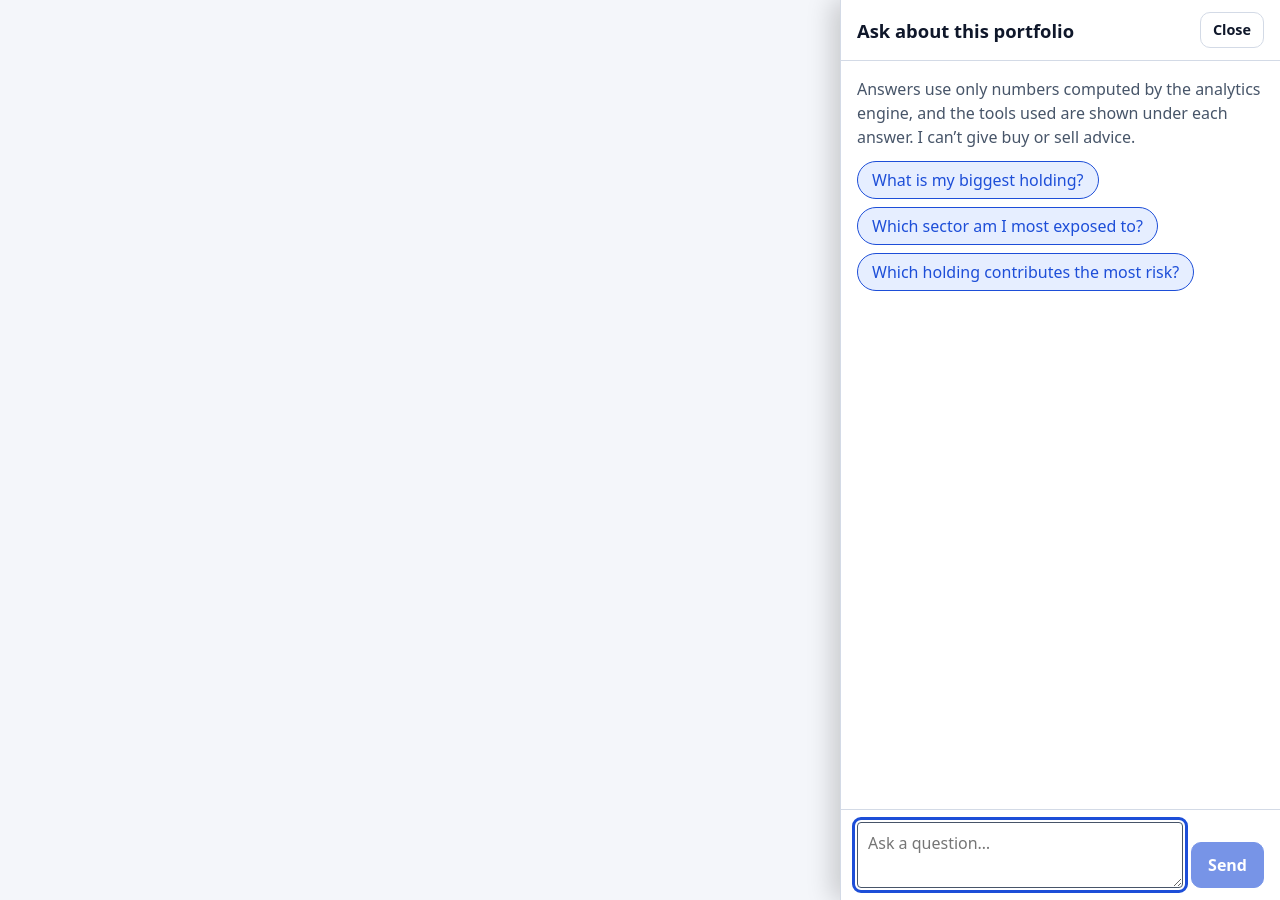
it: chat drawer › sends the analysis, history and original request, and shows the tools used
In the text box named "Your question": point(1020, 855) [857,822,1183,888], type "What is my biggest holding?"
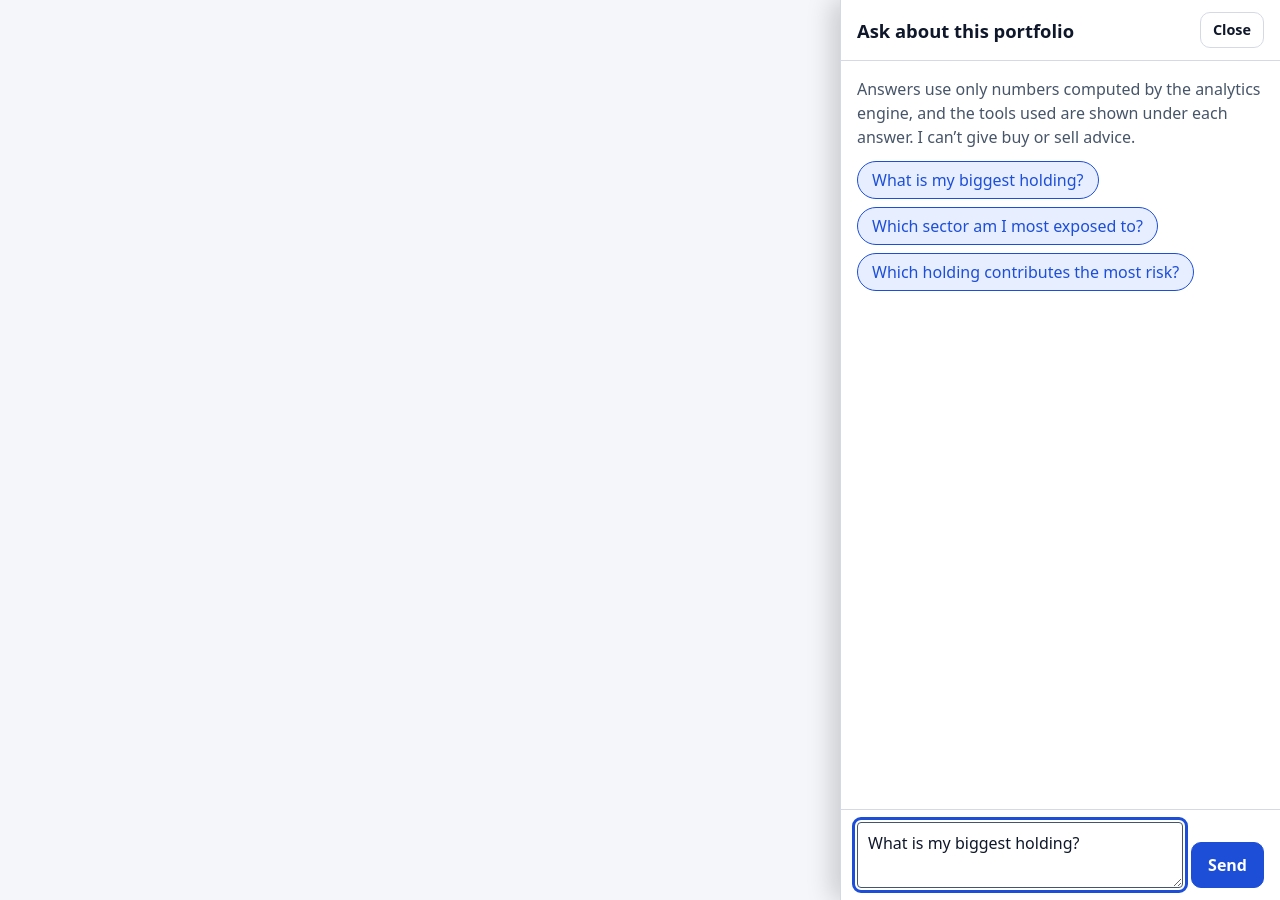
Click the button "Send": point(1228, 865) [1191,842,1264,888]
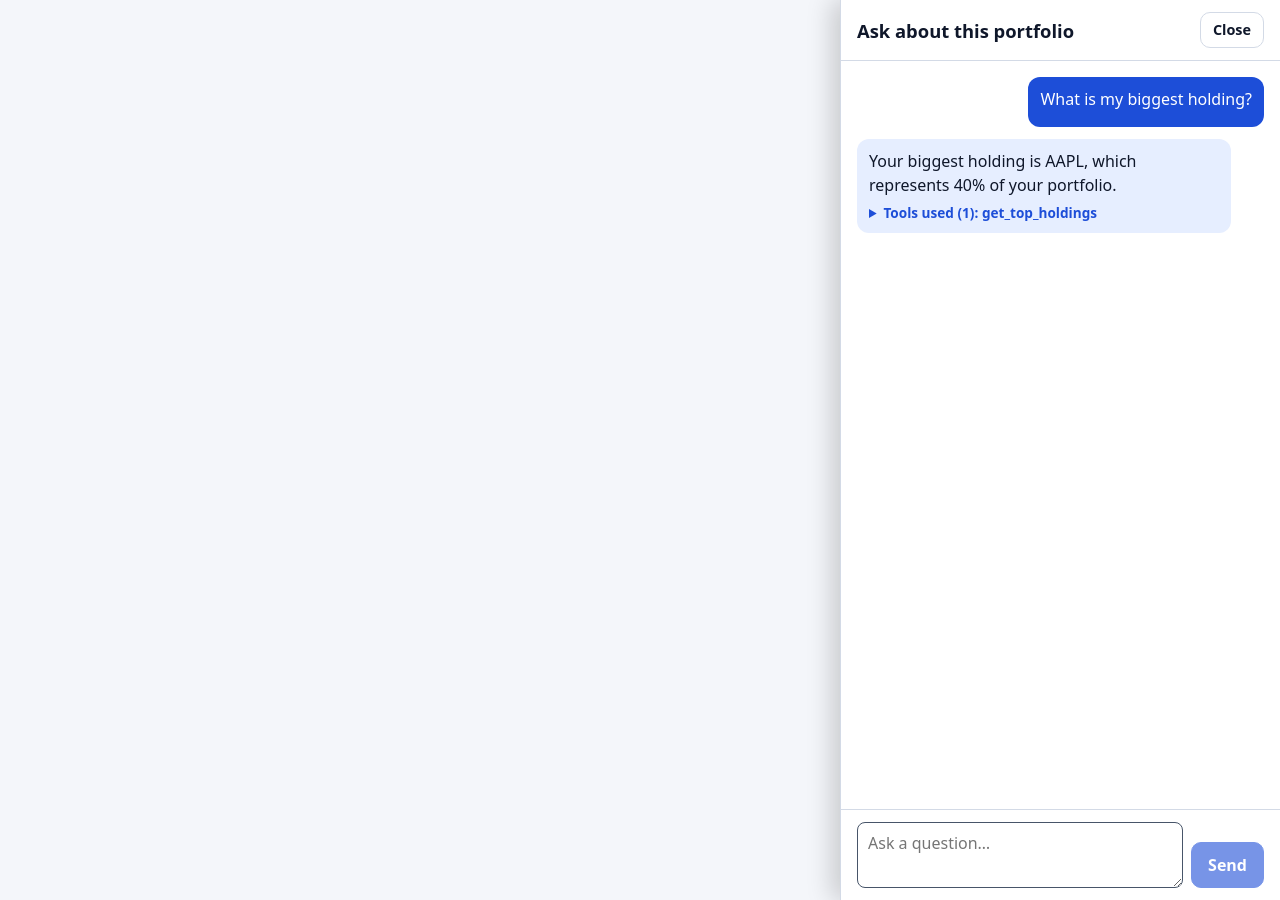
Now the text "biggest holding is AAPL" is shown, box [869,150,1141,196]
Click the heading "Tools used (1): get_top_holdings": point(990, 212) [883,203,1097,222]
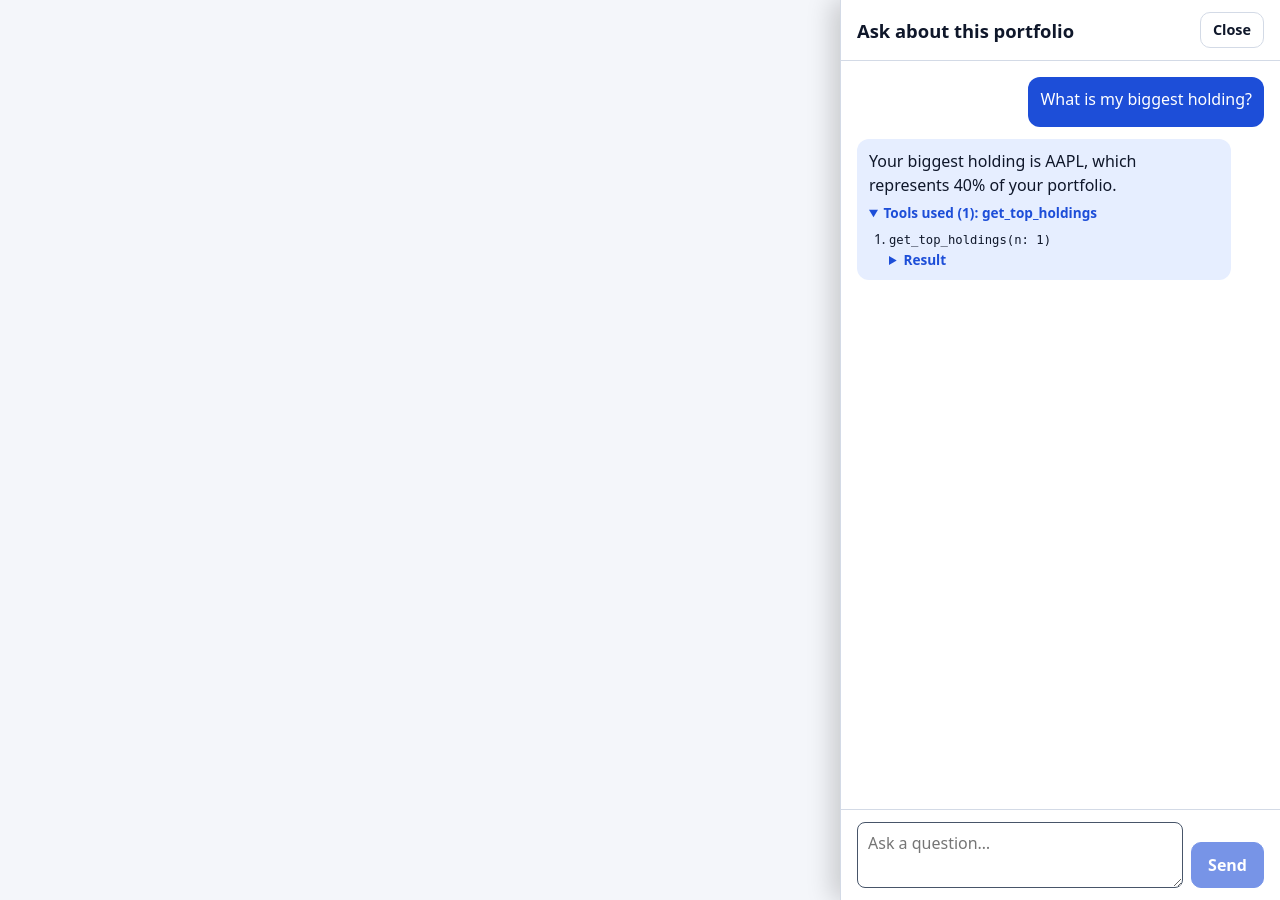
Now the text "get_top_holdings(n: 1)" is shown, box [889,233,1051,247]
Click the heading "Result": point(925, 259) [903,250,946,269]
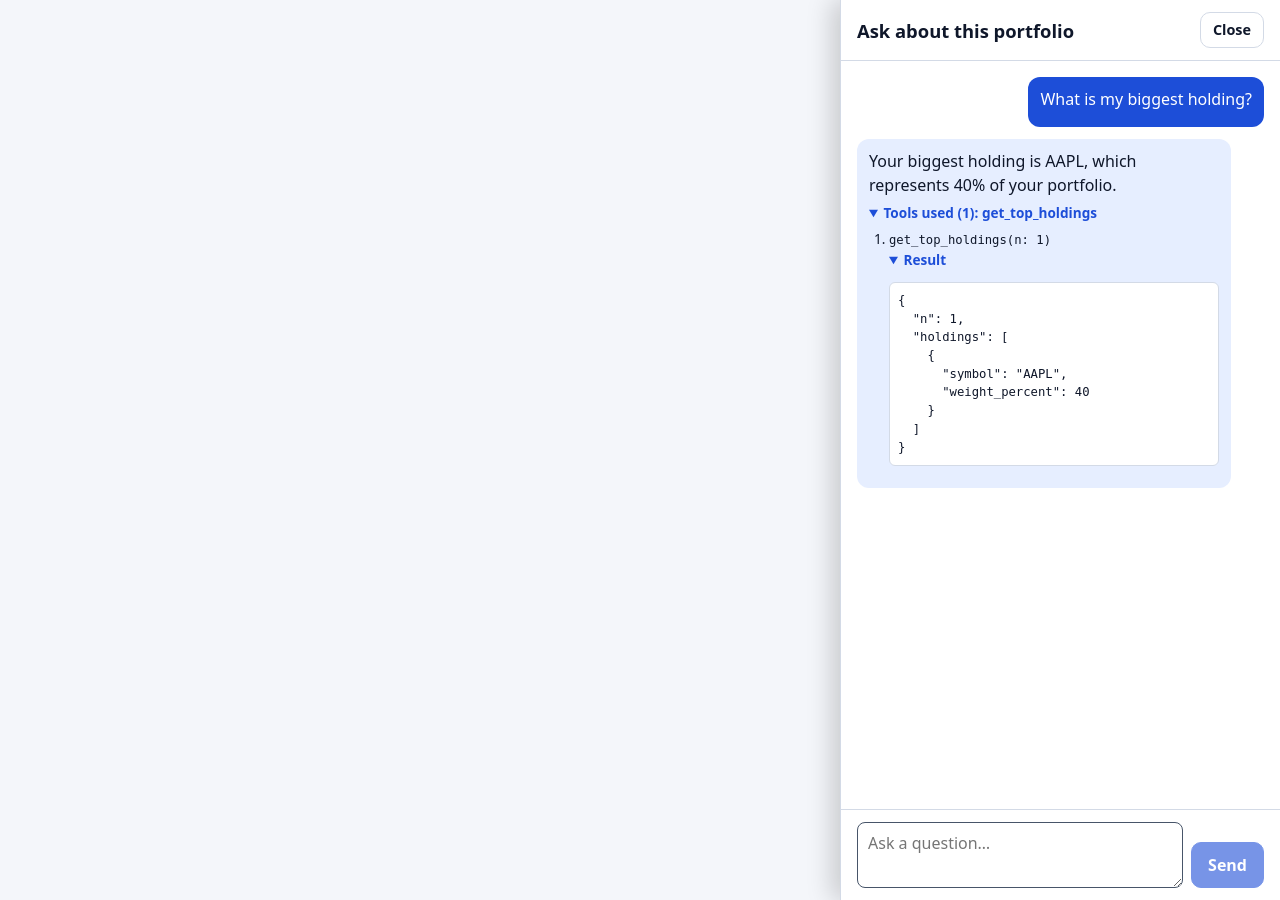
Now the text box named "Your question" is empty, box [857,822,1183,888]
Now the text "\"weight_percent\": 40" is shown, box [898,293,1090,454]
